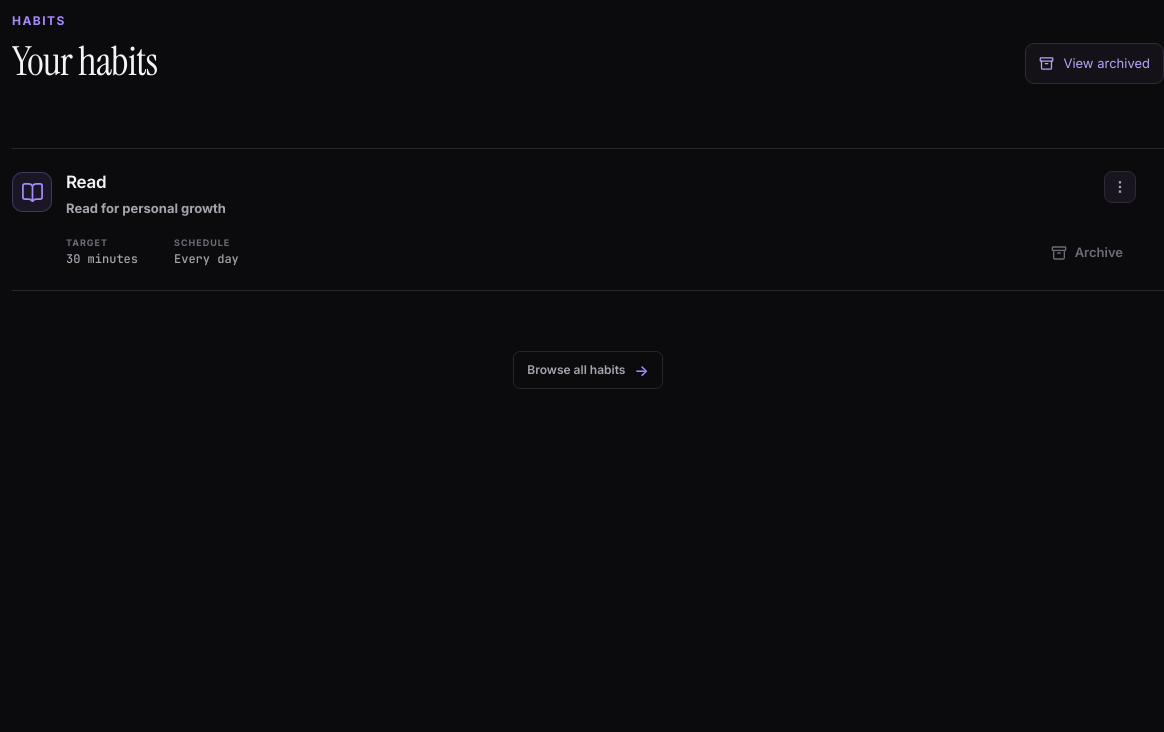
HabitList › shows an error when archiving fails
Expected: the heading "Read" is shown, [66, 172, 106, 192]
Click the button "Archive" at (1087,253), box [1038, 238, 1136, 268]
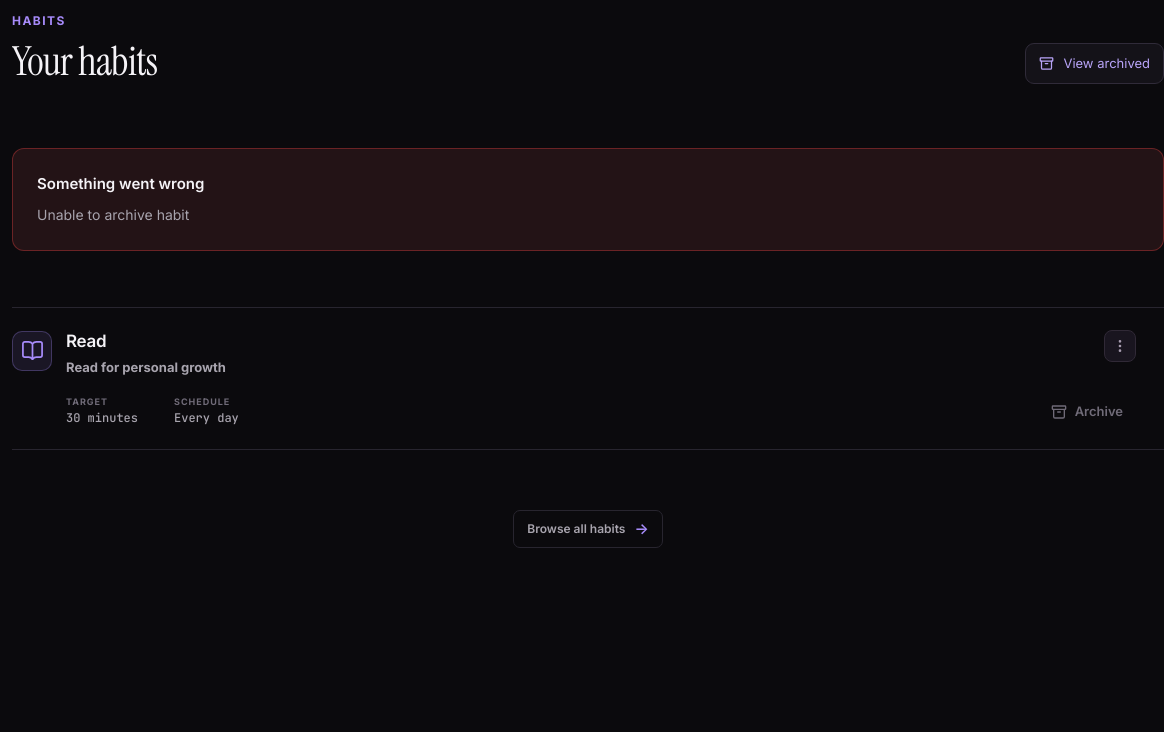
Expected: the message shows "Unable to archive habit", [37, 206, 189, 222]
